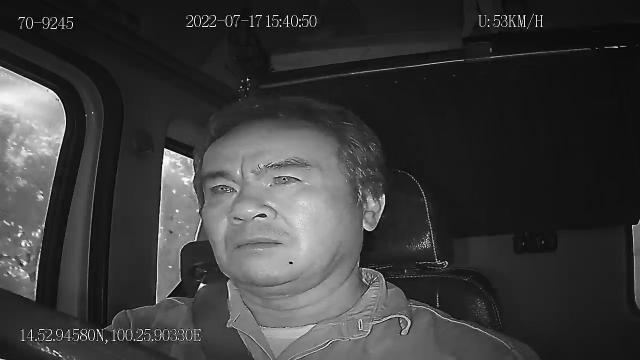SafeDriving: (262, 165, 310, 193), (200, 172, 243, 203)
Seatbelt: (189, 270, 257, 360)
